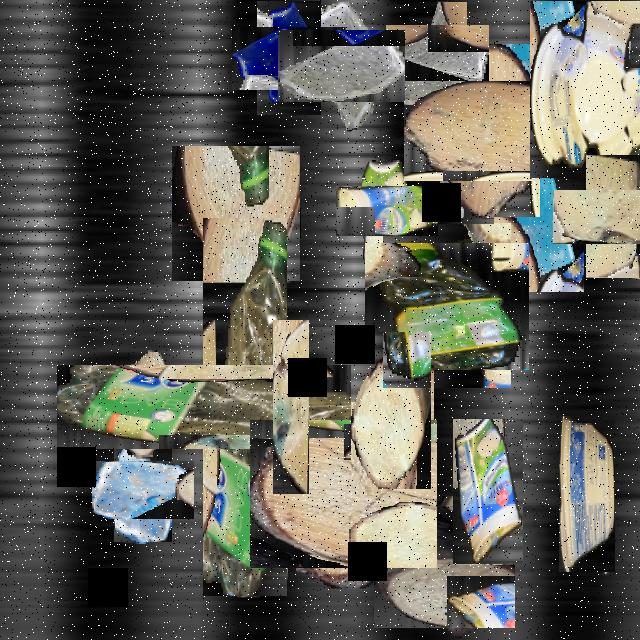glass: (540, 54, 634, 220), (494, 134, 584, 294), (291, 16, 391, 116), (244, 14, 334, 103), (103, 450, 183, 531), (398, 13, 478, 94)
plastic: (130, 292, 360, 522), (374, 233, 520, 379), (530, 2, 640, 180), (453, 420, 523, 566), (559, 416, 615, 572), (349, 173, 425, 250)
wood: (259, 410, 427, 578), (422, 63, 558, 200), (378, 501, 510, 633), (172, 146, 300, 281), (351, 332, 431, 489), (273, 320, 309, 494), (569, 173, 640, 260), (106, 365, 184, 442)
